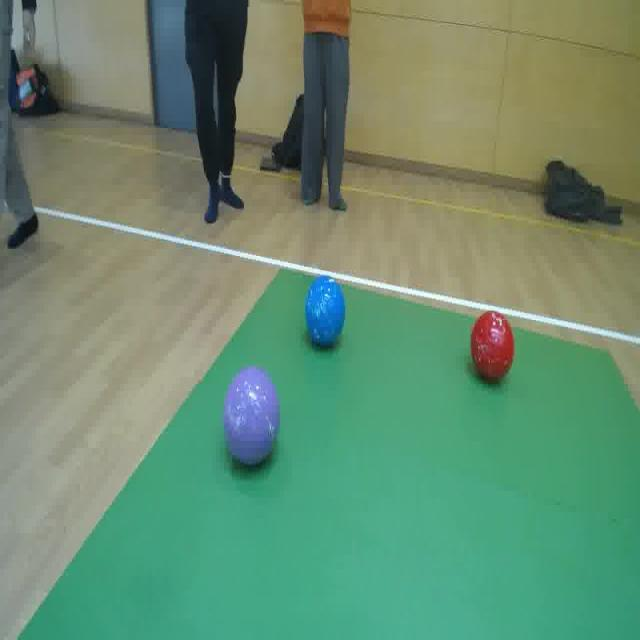blue_ball: (303, 276, 345, 352)
purple_ball: (222, 368, 282, 473)
red_ball: (468, 304, 520, 388)
